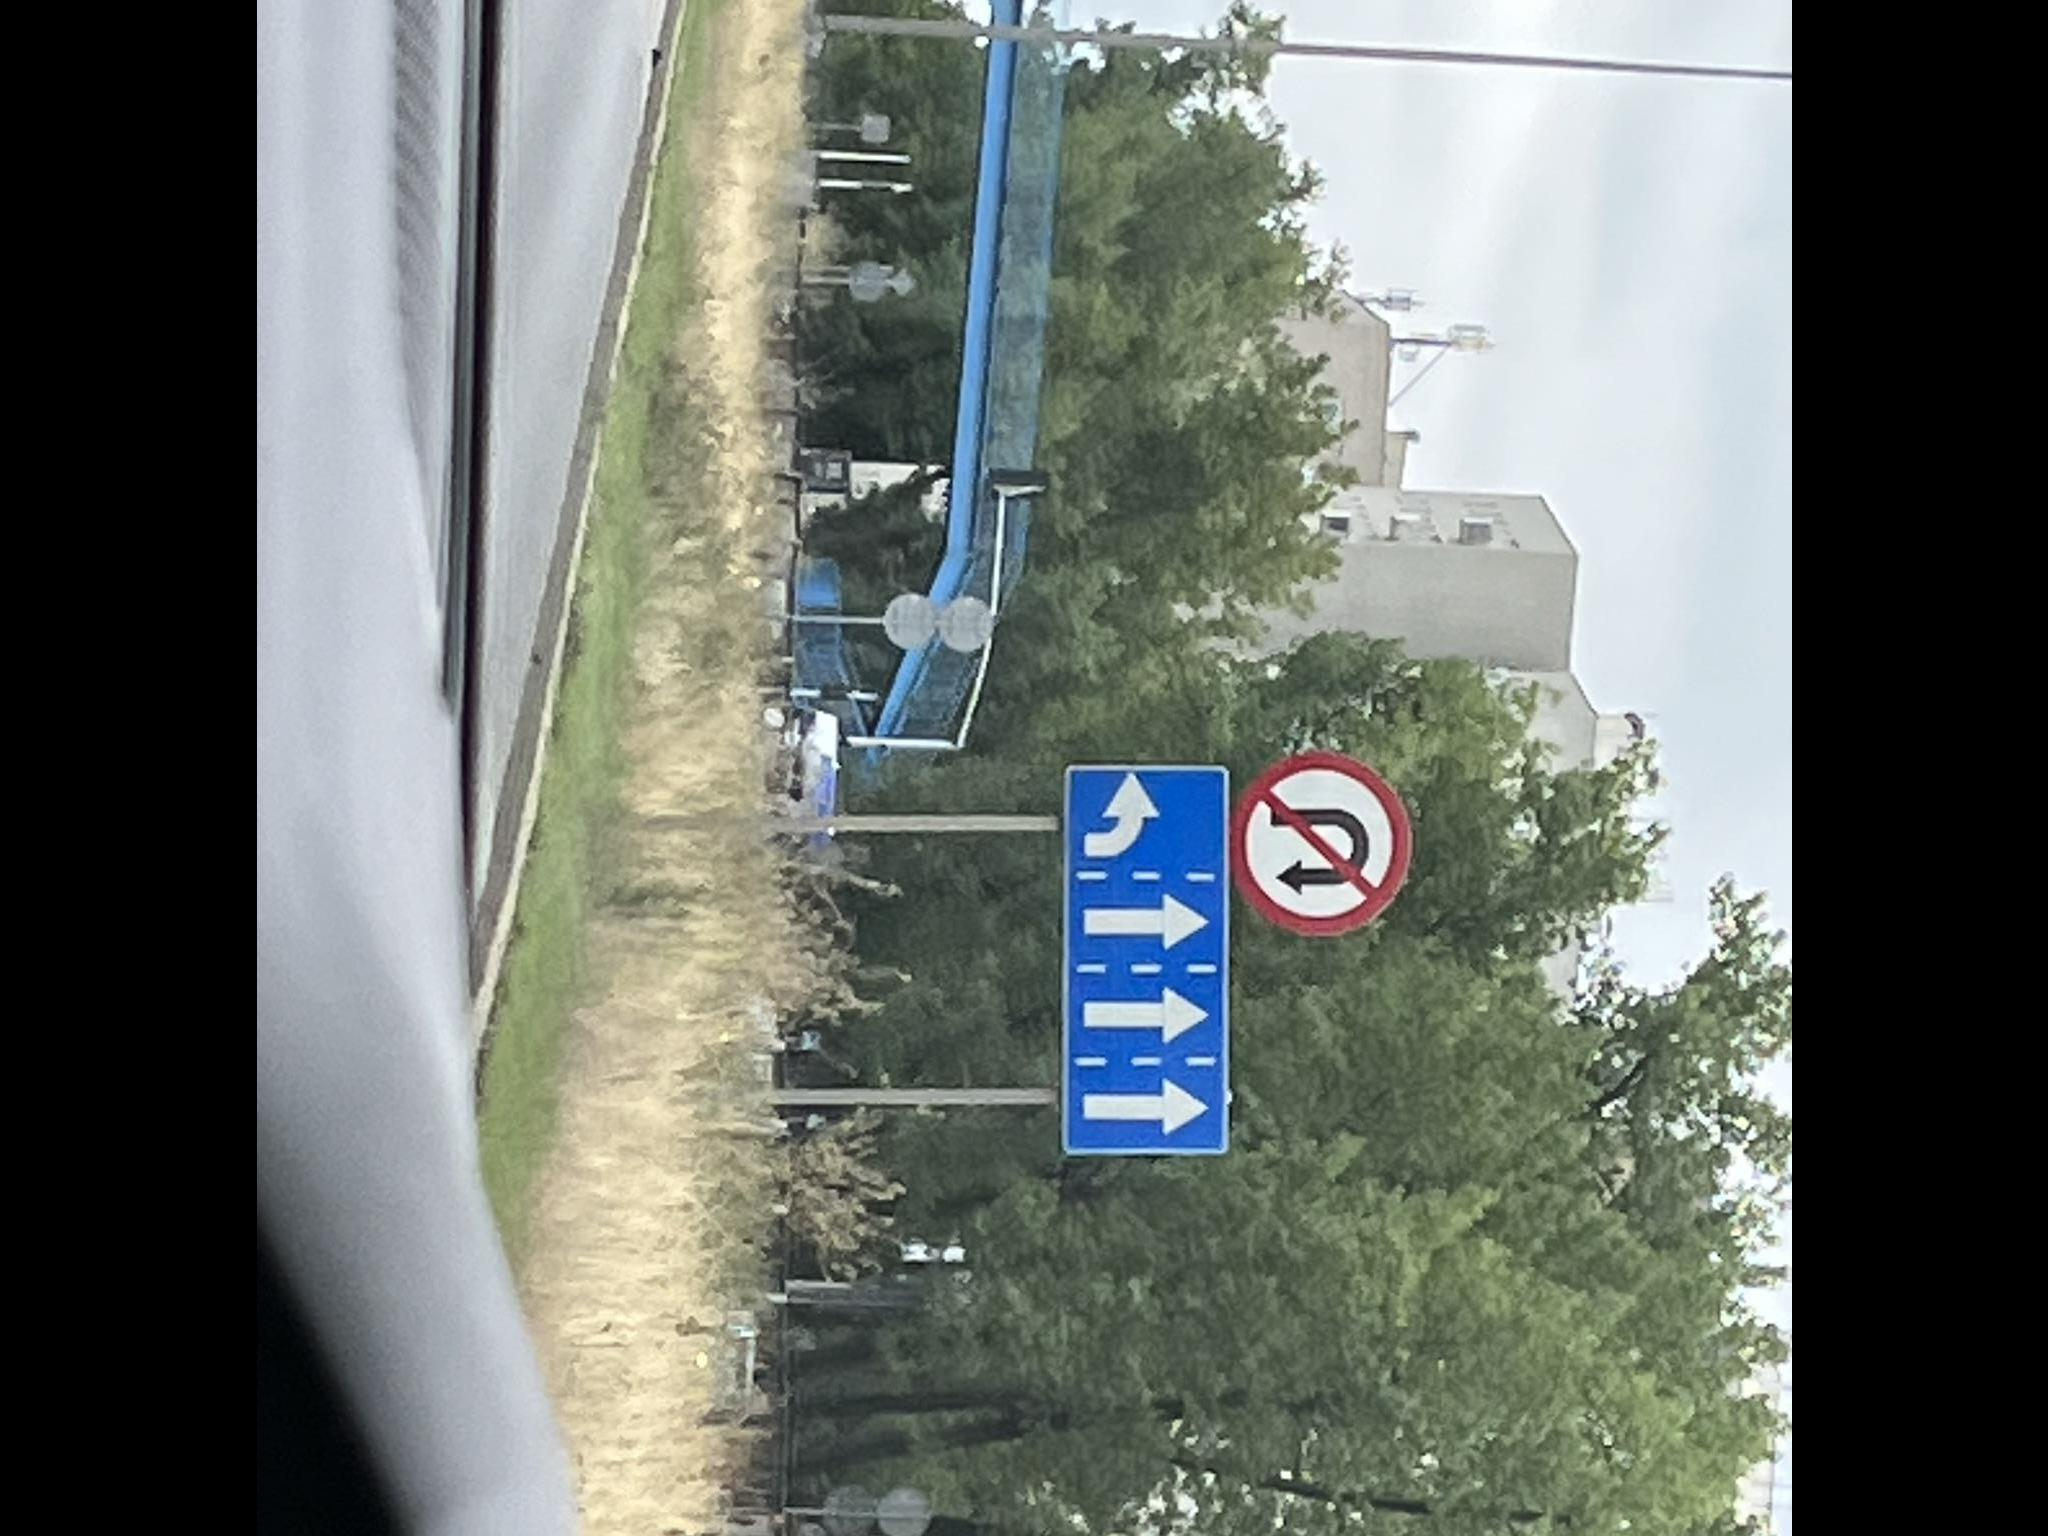other: (1059, 762, 1230, 1155)
prohibitory: (1229, 750, 1414, 937)
